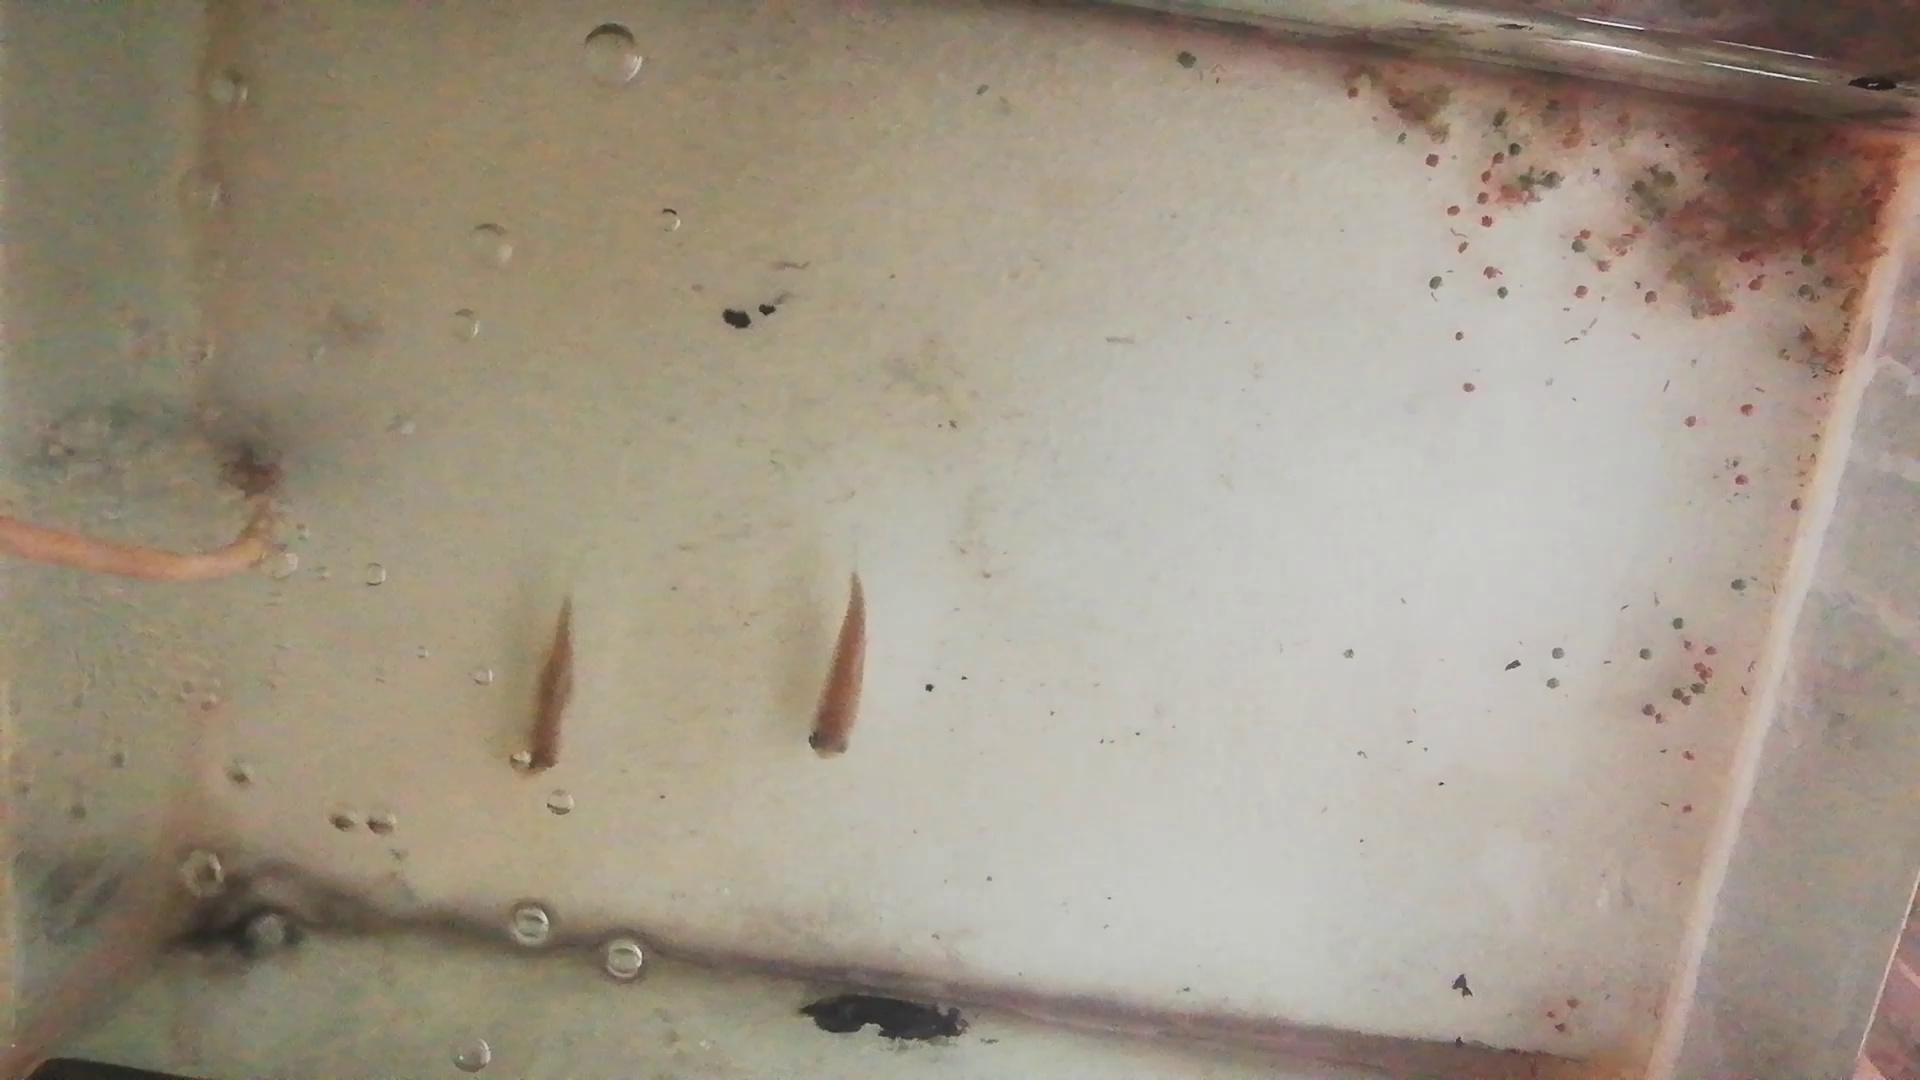fish: (804, 571, 868, 764), (520, 592, 578, 775)
